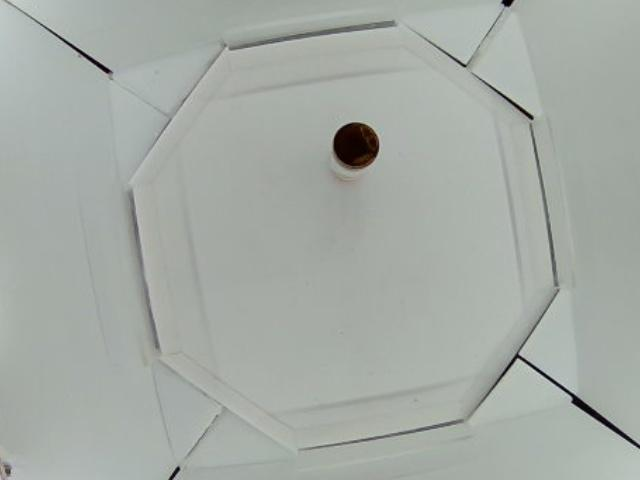Medicine: (329, 121, 381, 183)
